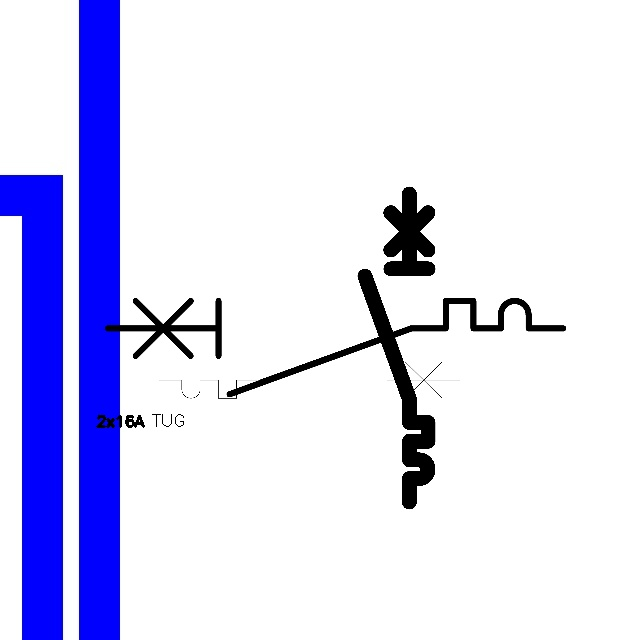interruptor_termomagnetico: (96, 289, 575, 406), (357, 186, 436, 510), (151, 329, 468, 406)
